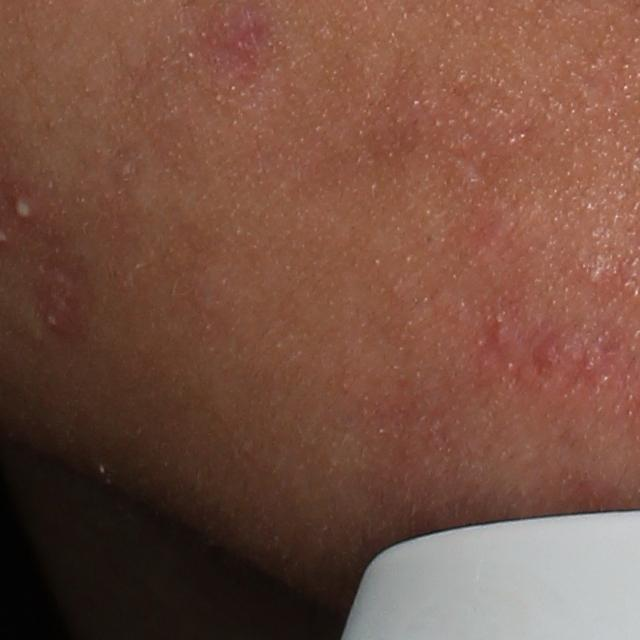papule: (530, 339, 560, 375)
pustule: (11, 195, 37, 224)
